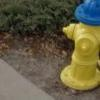a fire hydrant: (60, 6, 100, 89)
